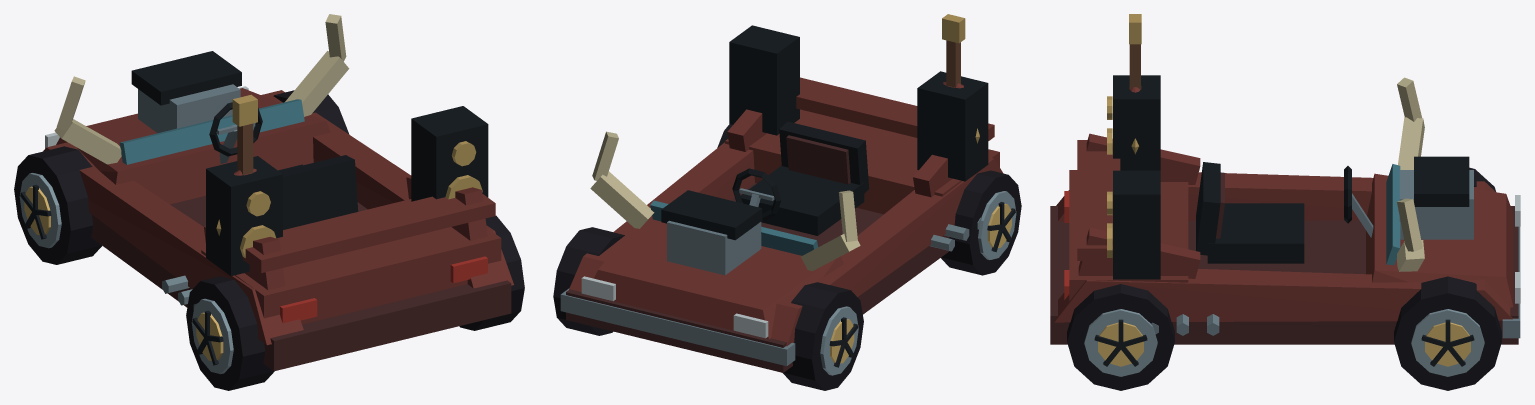
The model's file is kart.glb.
3 views of the same model, side by side, from view 1: azimuth 30°, elevation 25°; view 2: azimuth 150°, elevation 25°; view 3: azimuth 270°, elevation 25° (orthographic). The views are drawn at different scales.
Parts seen in each view (by area): view 1: identity-interceptor-interceptor-fastback-and-supercharger, identity-interceptor-motif-speakers, wheel-front-left, wheel-rear-left, identity-interceptor-driver-cockpit, identity-interceptor-motif-horns, wheel-rear-right, identity-interceptor-motif-guitar, wheel-front-right; view 2: identity-interceptor-interceptor-fastback-and-supercharger, identity-interceptor-motif-speakers, identity-interceptor-driver-cockpit, wheel-front-left, wheel-rear-left, identity-interceptor-motif-horns, wheel-front-right, identity-interceptor-motif-guitar; view 3: identity-interceptor-interceptor-fastback-and-supercharger, identity-interceptor-motif-speakers, wheel-front-right, wheel-rear-right, identity-interceptor-driver-cockpit, identity-interceptor-motif-horns, identity-interceptor-motif-guitar.
Part boxes in pixels (left/top/right/bottom): identity-interceptor-interceptor-fastback-and-supercharger: left=43, top=51, right=513, bottom=371; identity-interceptor-motif-speakers: left=206, top=106, right=488, bottom=276; wheel-front-left: left=14, top=146, right=101, bottom=264; wheel-rear-left: left=186, top=276, right=274, bottom=390; identity-interceptor-driver-cockpit: left=209, top=102, right=358, bottom=229; identity-interceptor-motif-horns: left=54, top=14, right=349, bottom=164; wheel-rear-right: left=459, top=215, right=524, bottom=330; identity-interceptor-motif-guitar: left=216, top=94, right=257, bottom=235; wheel-front-right: left=273, top=90, right=349, bottom=134; identity-interceptor-interceptor-fastback-and-supercharger: left=560, top=77, right=1003, bottom=372; identity-interceptor-motif-speakers: left=729, top=25, right=988, bottom=181; identity-interceptor-driver-cockpit: left=732, top=121, right=869, bottom=235; wheel-front-left: left=783, top=282, right=863, bottom=390; wheel-rear-left: left=941, top=170, right=1021, bottom=275; identity-interceptor-motif-horns: left=590, top=131, right=860, bottom=271; wheel-front-right: left=553, top=227, right=624, bottom=335; identity-interceptor-motif-guitar: left=942, top=14, right=979, bottom=143; identity-interceptor-interceptor-fastback-and-supercharger: left=1050, top=133, right=1520, bottom=344; identity-interceptor-motif-speakers: left=1107, top=75, right=1160, bottom=279; wheel-front-right: left=1394, top=276, right=1501, bottom=390; wheel-rear-right: left=1067, top=284, right=1174, bottom=390; identity-interceptor-driver-cockpit: left=1196, top=162, right=1373, bottom=263; identity-interceptor-motif-horns: left=1396, top=77, right=1424, bottom=271; identity-interceptor-motif-guitar: left=1129, top=14, right=1141, bottom=154.
Size of the model in its own units: 2.07 by 1.8 by 2.96.
